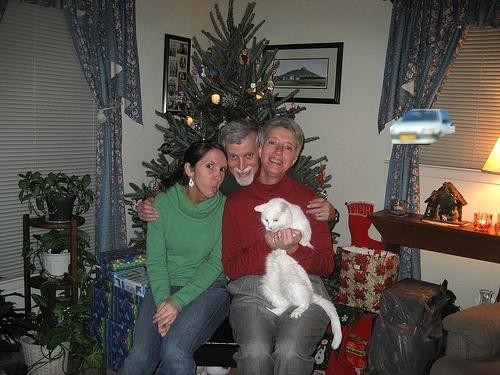tampered: (391, 110, 455, 145)
